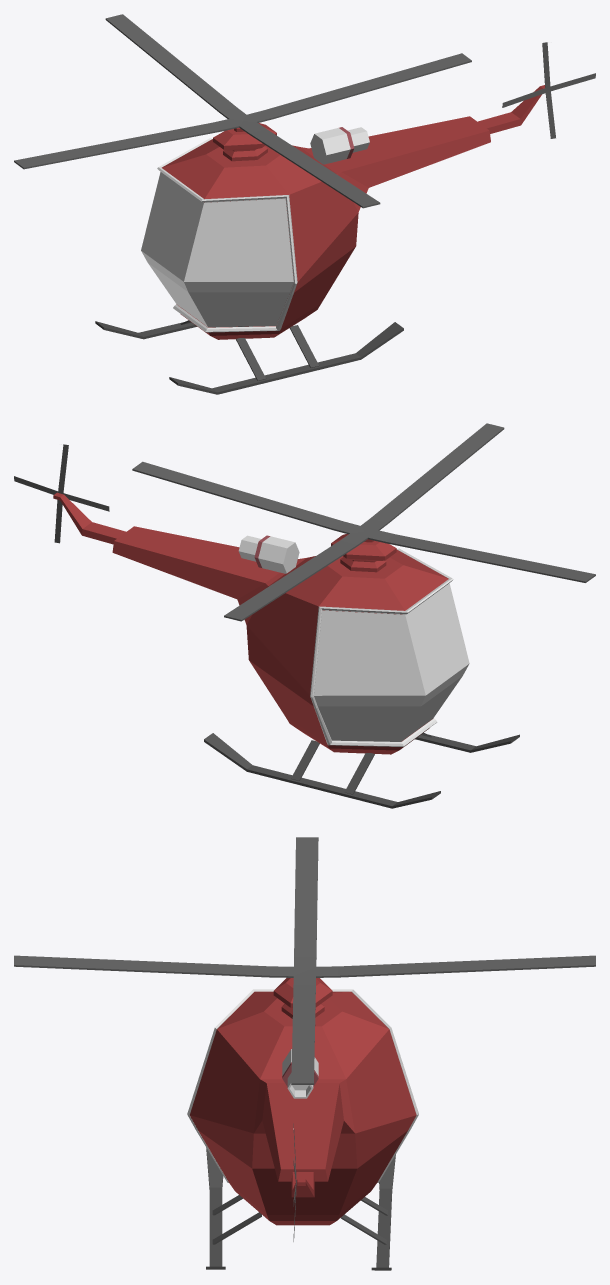
File: Helicopter.fbx
The picture shows the model from 3 angles, top to bottom: view 1: azimuth 30°, elevation 25°; view 2: azimuth 150°, elevation 25°; view 3: azimuth 270°, elevation 25°; orthographic projection. The views are drawn at different scales.
Parts seen in each view (by area): view 1: Landing Skid, Landing Skid.002, Propeller, Landing Skid.003, engine, Propeller1; view 2: Landing Skid, Landing Skid.002, Propeller, Landing Skid.003, engine, Propeller1; view 3: Landing Skid, Propeller, Landing Skid.003, engine.
Part boxes in pixels (left/top/right/bottom): Landing Skid: left=95, top=42, right=551, bottom=394; Landing Skid.002: left=141, top=172, right=293, bottom=327; Propeller: left=14, top=14, right=471, bottom=208; Landing Skid.003: left=157, top=138, right=297, bottom=332; engine: left=310, top=127, right=369, bottom=164; Propeller1: left=502, top=42, right=595, bottom=138; Landing Skid: left=53, top=444, right=519, bottom=808; Landing Skid.002: left=314, top=583, right=469, bottom=741; Propeller: left=132, top=423, right=595, bottom=621; Landing Skid.003: left=310, top=578, right=453, bottom=746; engine: left=238, top=535, right=299, bottom=573; Propeller1: left=14, top=444, right=109, bottom=543; Landing Skid: left=189, top=978, right=416, bottom=1270; Propeller: left=14, top=837, right=595, bottom=1084; Landing Skid.003: left=187, top=989, right=418, bottom=1182; engine: left=282, top=1049, right=318, bottom=1098.
Size of the model in its own units: 1521 by 603 by 1188.
